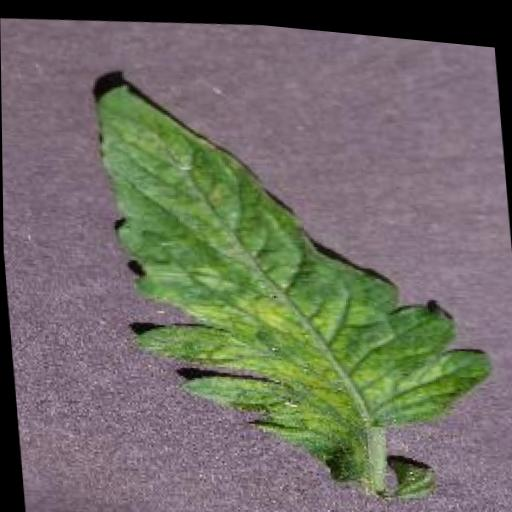Mosaic Virus: (92, 50, 502, 461)
